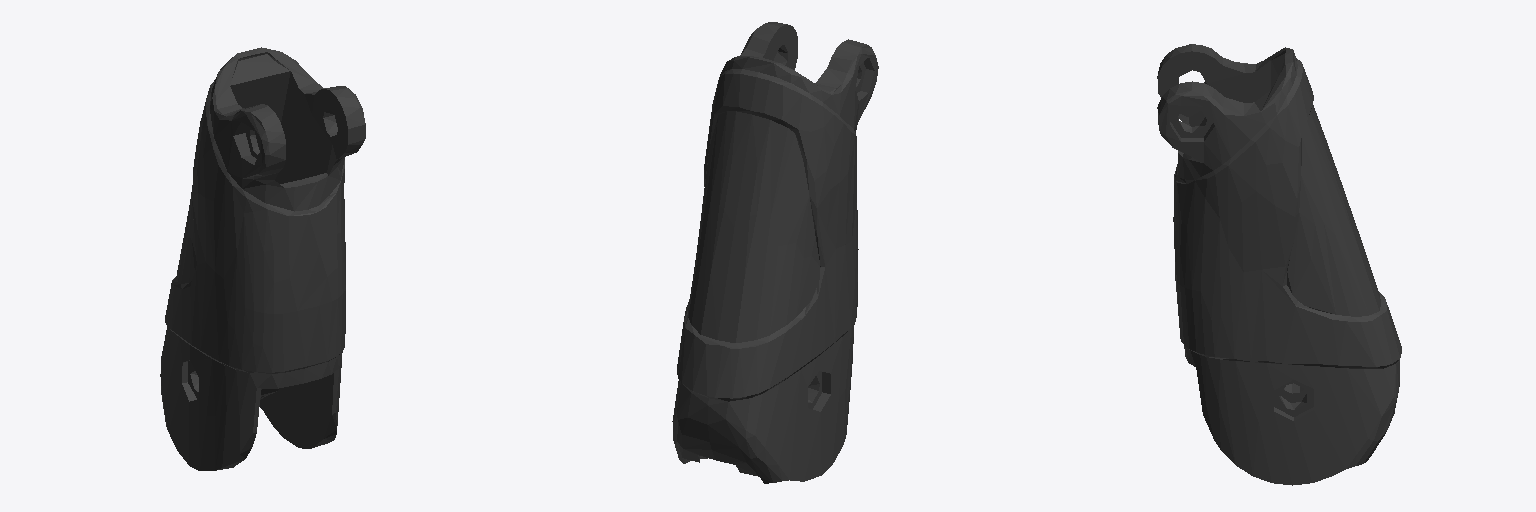
Rendered from R_pinky_proximal.obj.
3 renders of one model, left to right at view 1: azimuth 30°, elevation 25°; view 2: azimuth 150°, elevation 25°; view 3: azimuth 270°, elevation 25°, orthographic.
Size of the model in its own units: 0.0143 by 0.0448 by 0.0248.